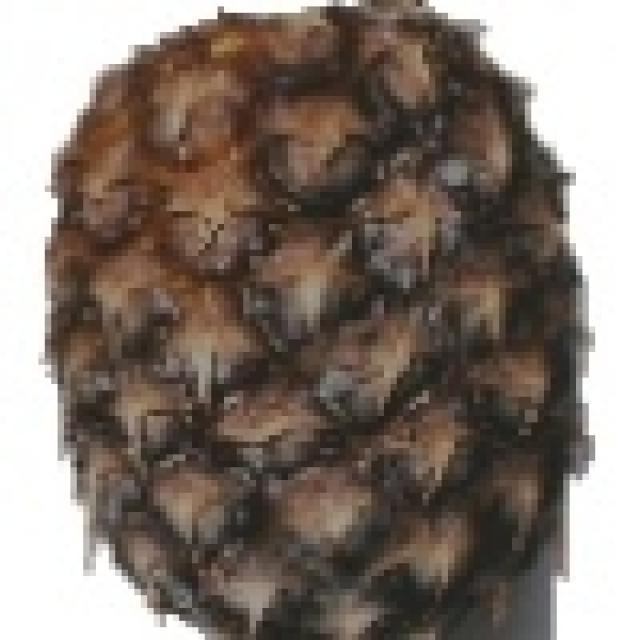pineapple: (48, 0, 584, 640)
